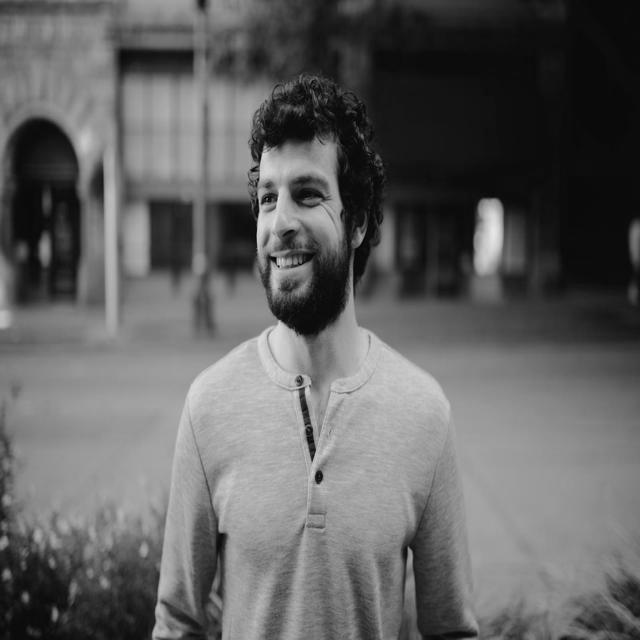Happiness: (256, 144, 344, 332)
